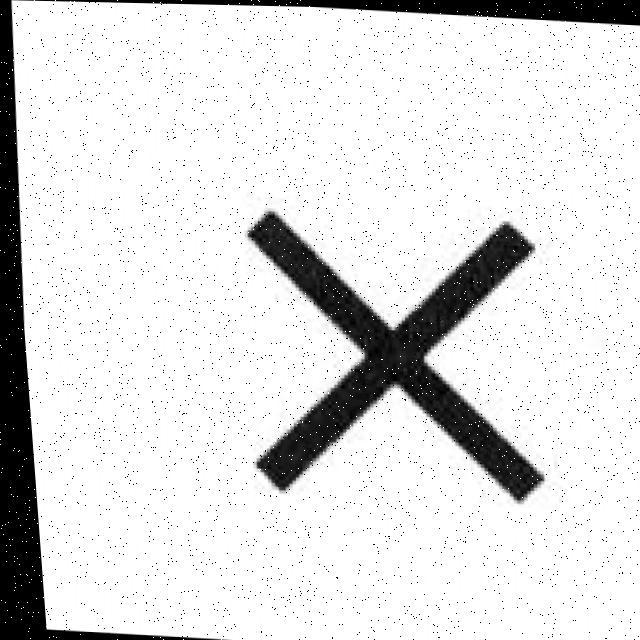cross: (203, 168, 610, 512)
